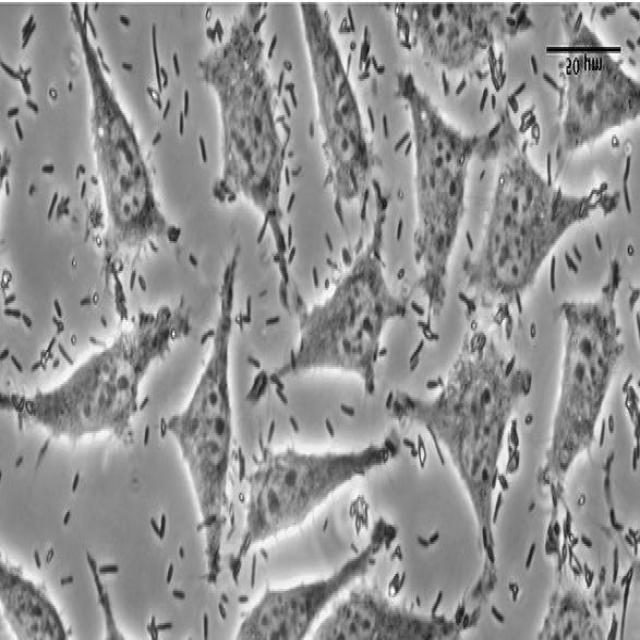Amoeba: (1, 6, 637, 640)
